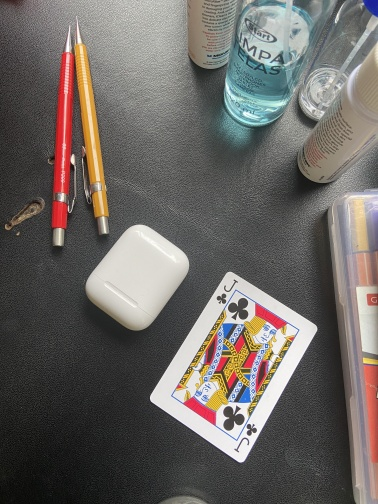jack: (148, 269, 319, 465)
